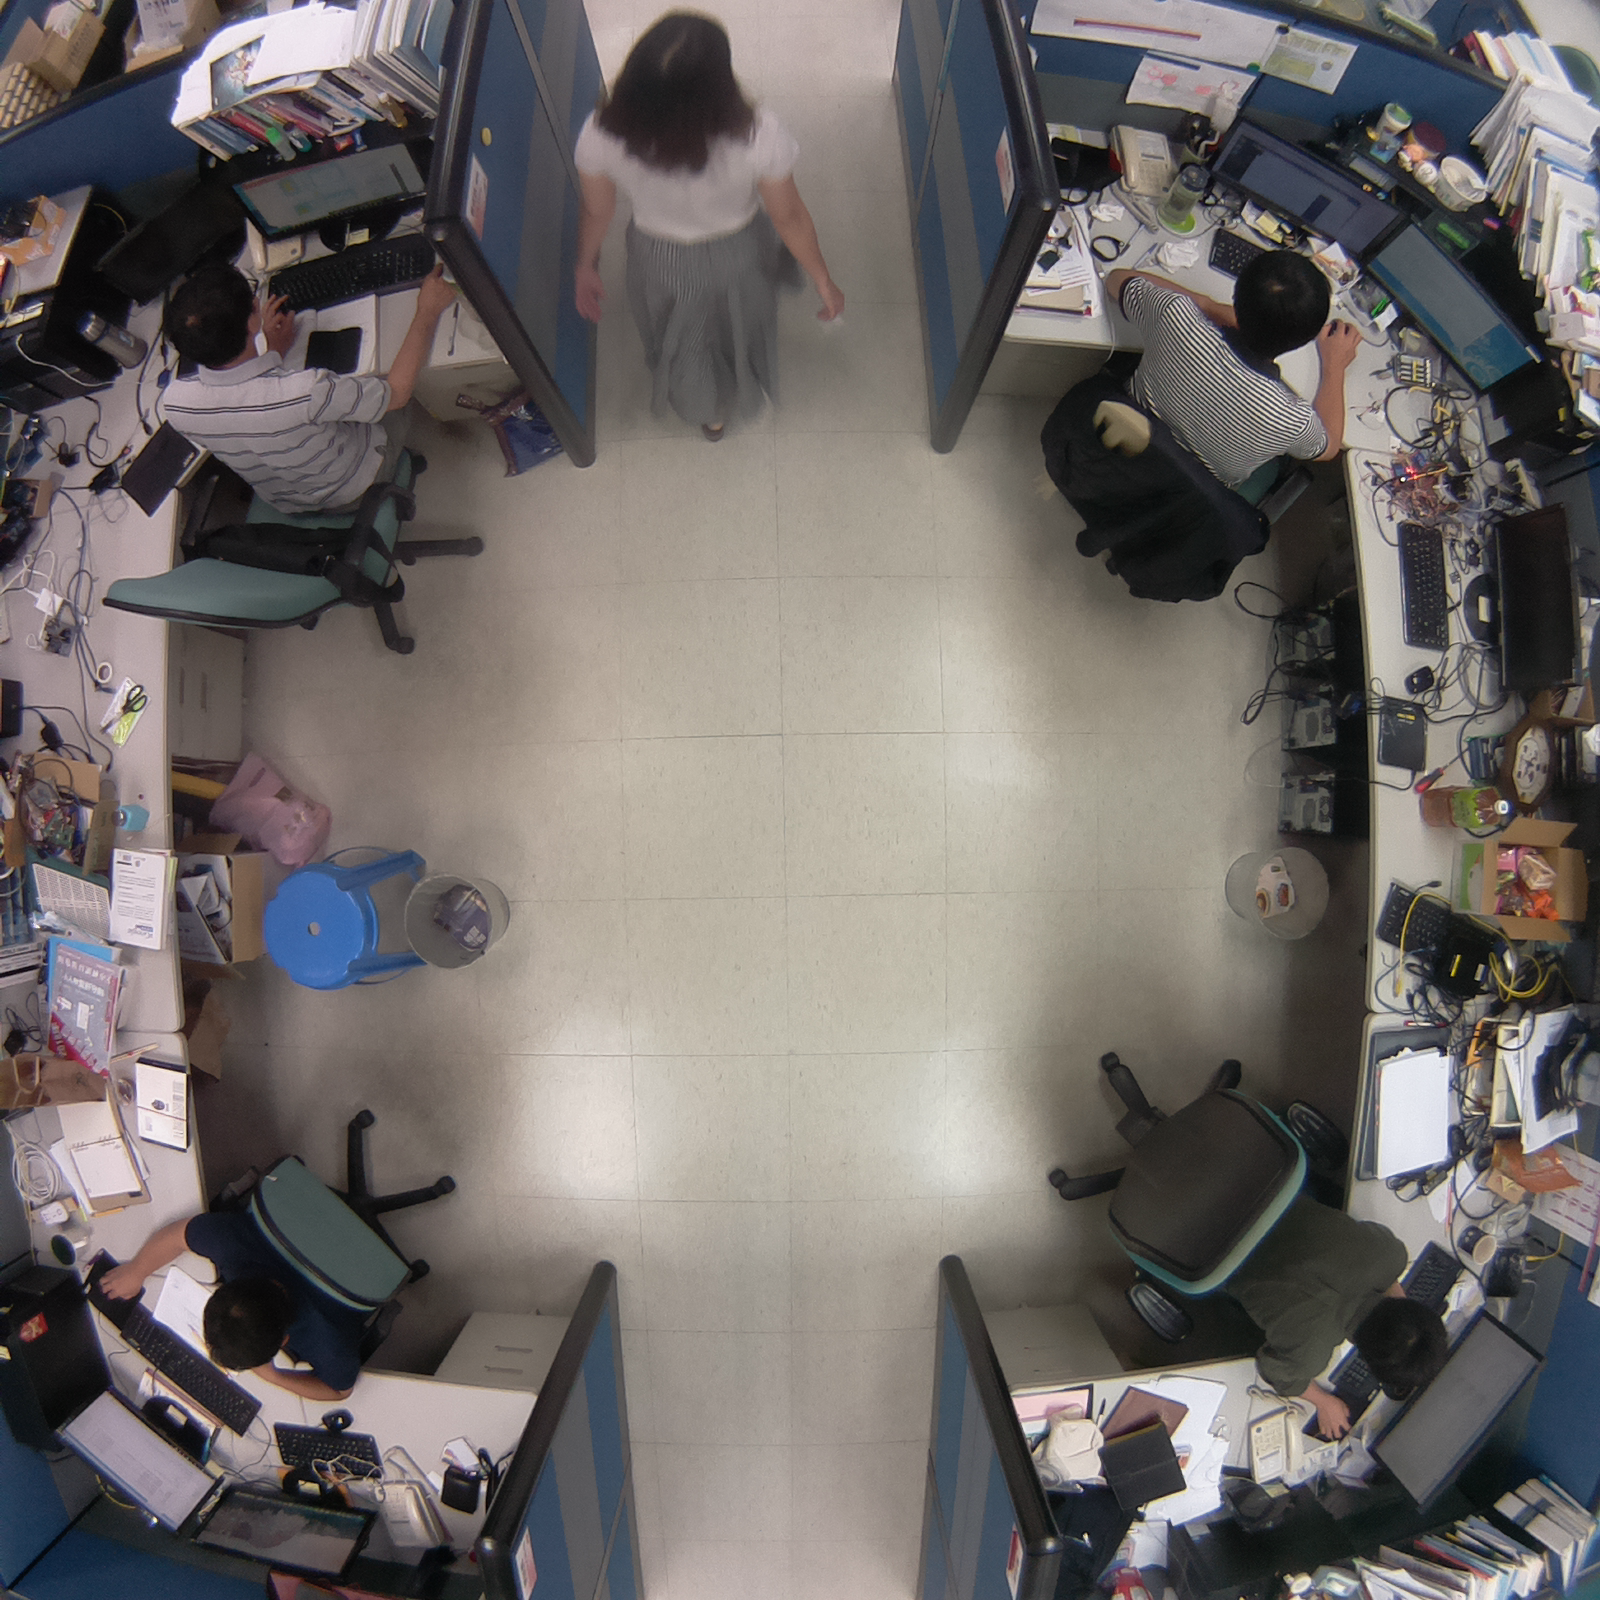head: (591, 6, 768, 174), (1225, 246, 1342, 359), (1346, 1289, 1461, 1404), (157, 259, 266, 361), (197, 1278, 295, 1374)
sitting: (81, 255, 496, 673), (1040, 1034, 1456, 1440), (1032, 234, 1355, 609), (90, 1096, 465, 1415)
walking: (559, 1, 873, 460)
